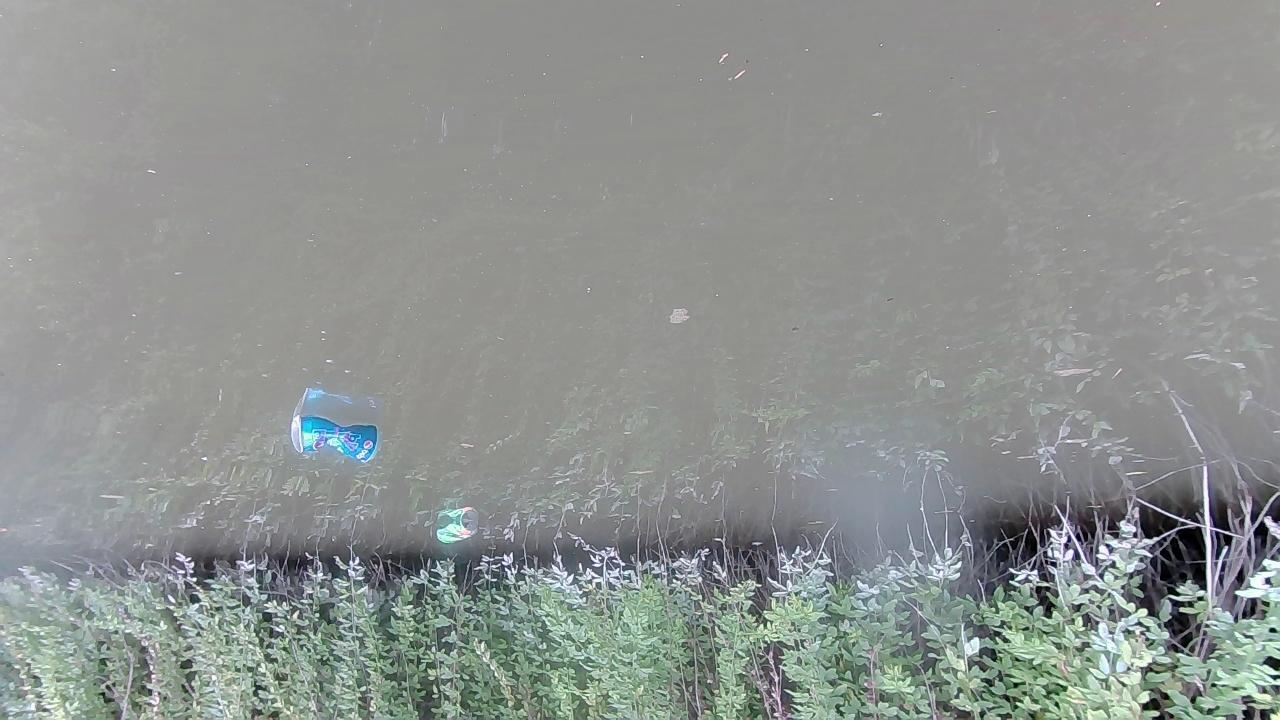Metal: (288, 411, 380, 468), (435, 518, 481, 546)
